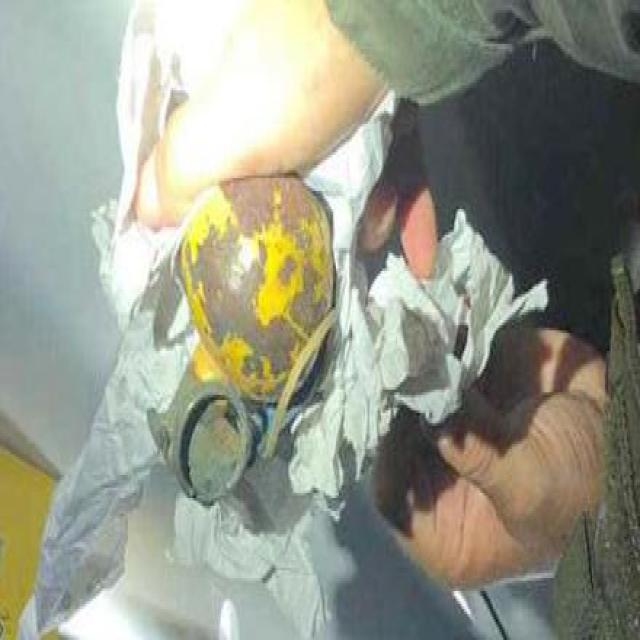grenade: (148, 176, 336, 515)
